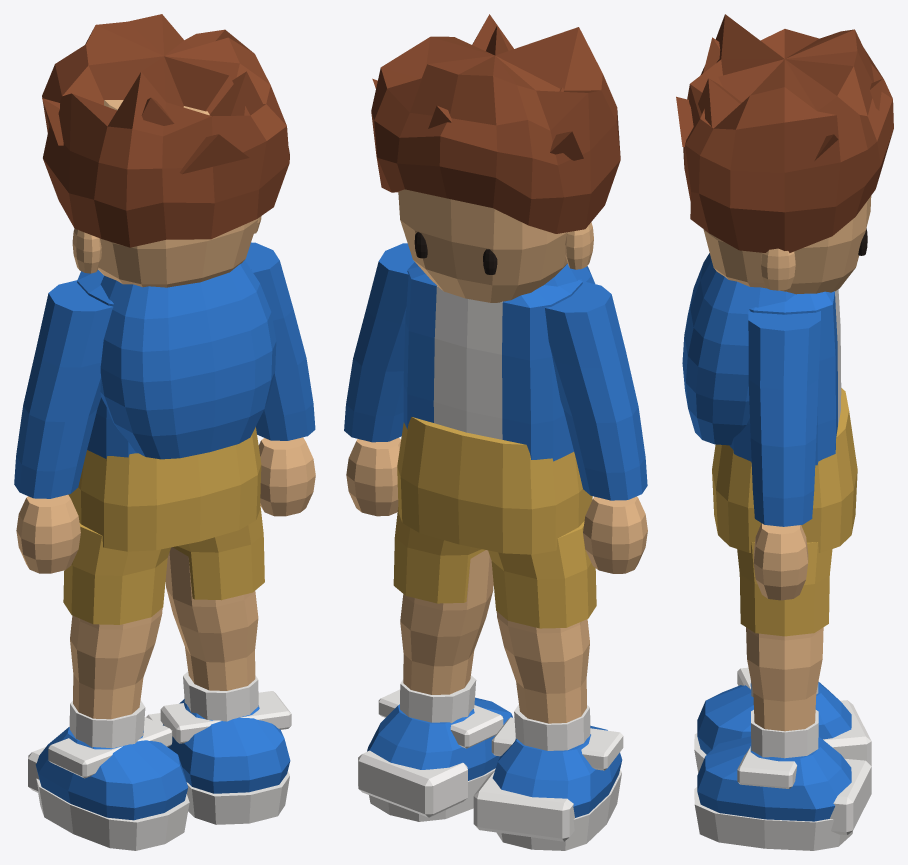
File: boy.glb
3 renders of one model, left to right at view 1: azimuth 30°, elevation 25°; view 2: azimuth 150°, elevation 25°; view 3: azimuth 270°, elevation 25°, orthographic.
Parts seen in each view (by area): view 1: hair, hood, shorts_hip, sleeve_L, shoe_L, leg_R, shorts_leg_L, leg_L, shoe_R, sleeve_R, head, shorts_leg_R (+12 smaller); view 2: hair, torso, shorts_hip, sleeve_L, head, sleeve_R, leg_R, shorts_leg_L, leg_L, shoe_L, shoe_R, shorts_leg_R (+13 smaller); view 3: hair, sleeve_R, hood, shorts_hip, shoe_R, leg_R, head, shorts_leg_R, torso, sole_R, shoe_L, hand_R (+7 smaller).
Part boxes in pixels (x1,y1,x2,y2): hair: [42, 14, 289, 247]; hood: [100, 260, 276, 459]; shorts_hip: [68, 427, 261, 551]; sleeve_L: [14, 280, 113, 498]; shoe_L: [35, 727, 187, 820]; leg_R: [165, 547, 258, 690]; shorts_leg_L: [63, 523, 170, 624]; leg_L: [70, 608, 162, 719]; shoe_R: [163, 699, 290, 793]; sleeve_R: [245, 242, 315, 440]; head: [98, 100, 258, 287]; shorts_leg_R: [173, 505, 264, 600]; hair: [371, 26, 620, 233]; torso: [403, 262, 582, 461]; shorts_hip: [397, 417, 592, 554]; sleeve_L: [545, 281, 647, 500]; head: [398, 189, 567, 302]; sleeve_R: [344, 243, 414, 442]; leg_R: [400, 550, 493, 694]; shorts_leg_L: [488, 521, 596, 628]; leg_L: [496, 611, 589, 723]; shoe_L: [492, 725, 622, 817]; shoe_R: [367, 697, 512, 780]; shorts_leg_R: [393, 507, 485, 603]; hair: [683, 14, 893, 252]; sleeve_R: [748, 311, 820, 526]; hood: [682, 253, 795, 445]; shorts_hip: [712, 388, 857, 552]; shoe_R: [697, 736, 851, 821]; leg_R: [746, 627, 823, 731]; head: [703, 196, 871, 294]; shorts_leg_R: [737, 542, 832, 636]; torso: [729, 289, 841, 465]; sole_R: [694, 787, 852, 850]; shoe_L: [697, 682, 851, 754]; hand_R: [753, 523, 808, 600].
Bounding box in the file's own units: 0.5145 × 1.29 × 0.3365.
